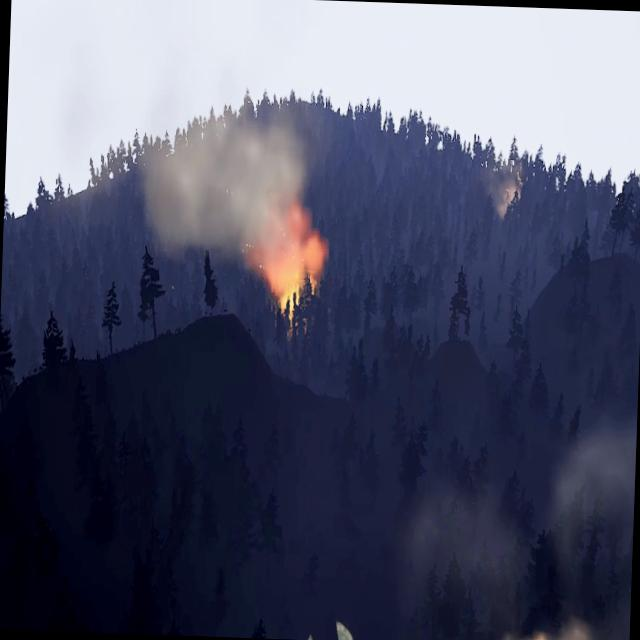fire: (253, 228, 327, 336)
smoke: (142, 98, 332, 288), (395, 467, 535, 640), (539, 409, 635, 640), (504, 618, 597, 640), (488, 176, 518, 218)
